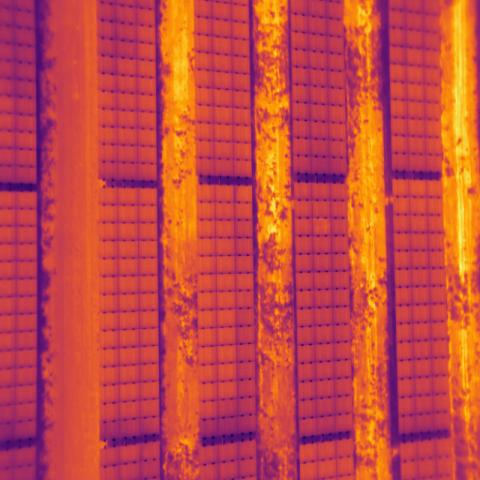fault: (313, 218, 332, 237)
